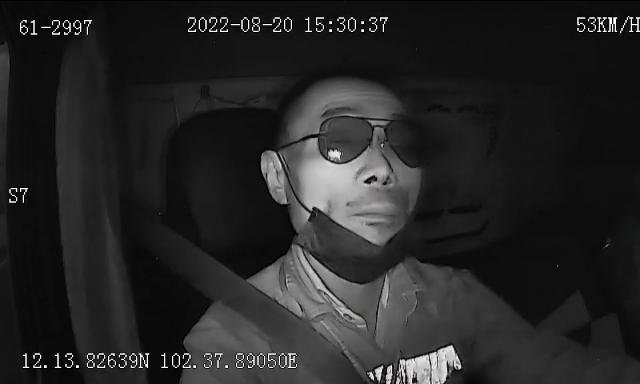SafeDriving: (319, 134, 360, 166)
Seatbelt: (153, 232, 373, 384)
